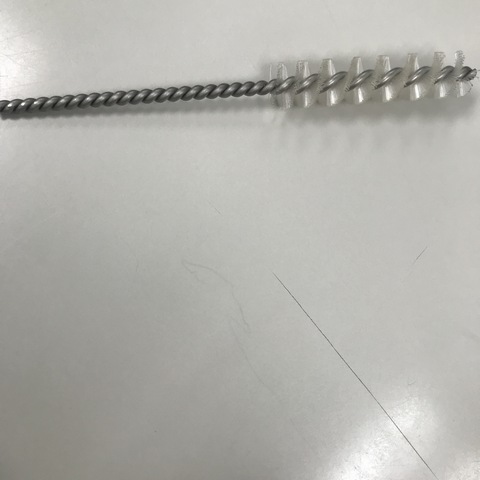Twist Brush-B: (1, 45, 479, 127)
